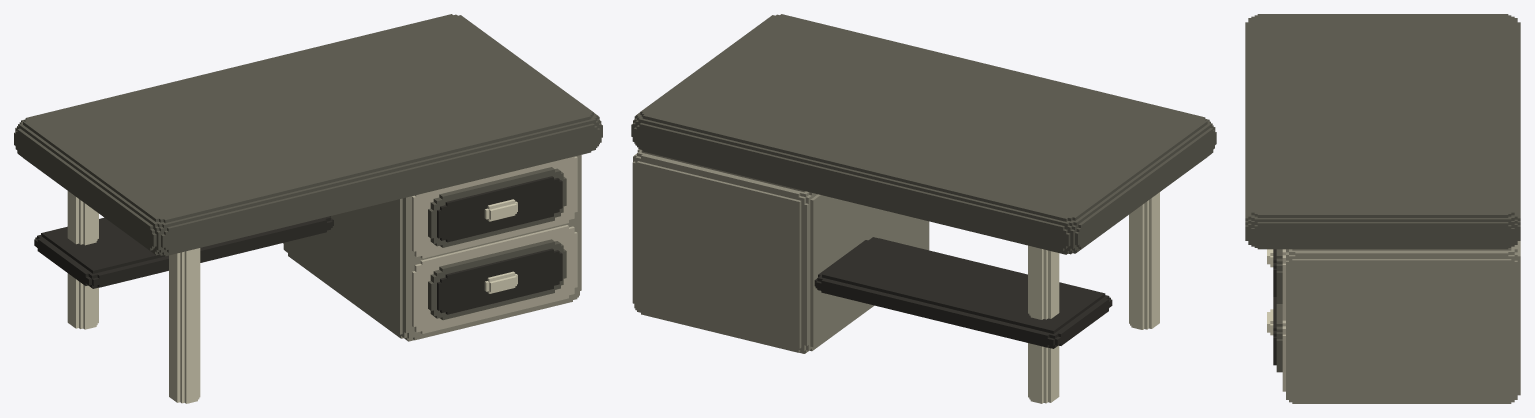
File: factory4.2+-5.obj
3 views of the same model, side by side, from view 1: azimuth 30°, elevation 25°; view 2: azimuth 150°, elevation 25°; view 3: azimuth 270°, elevation 25° (orthographic). The views are drawn at different scales.
Size of the model in its own units: 15.6 by 6.7 by 8.8.
1 material, 1 textured.
